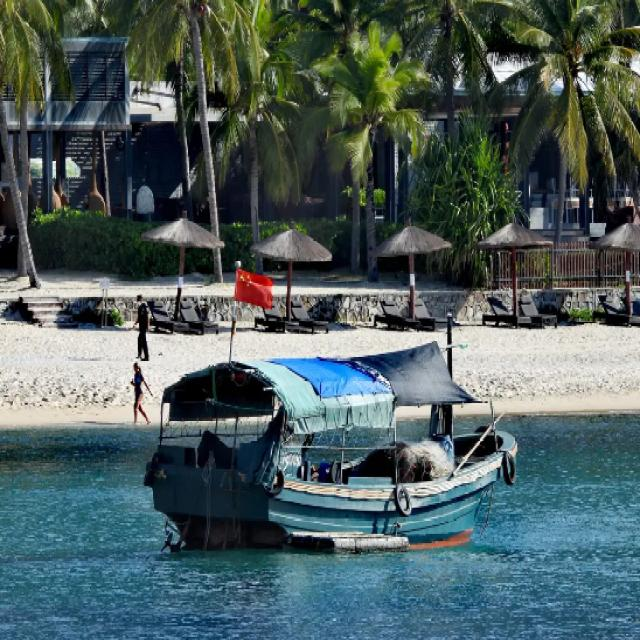fishing boat: (152, 332, 516, 552)
